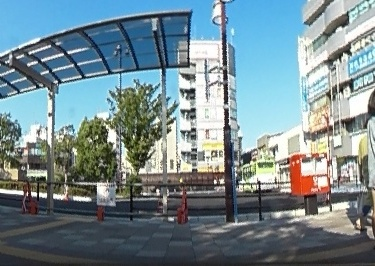person: (364, 86, 375, 238)
